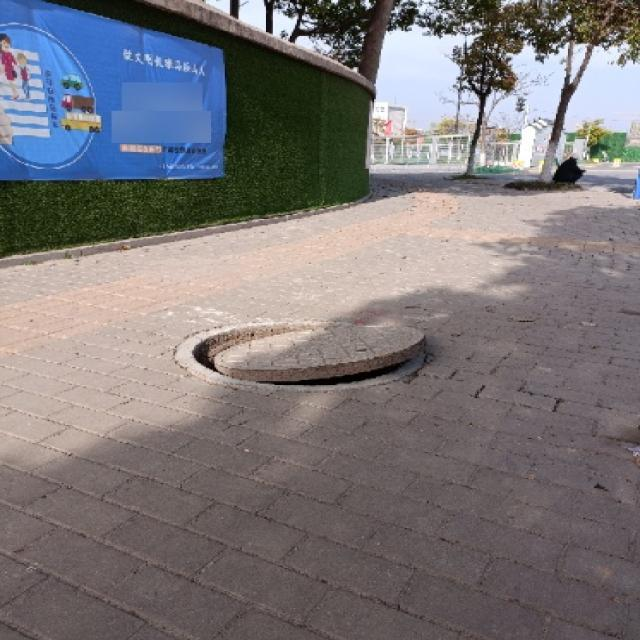Faulty: (171, 307, 450, 407)
